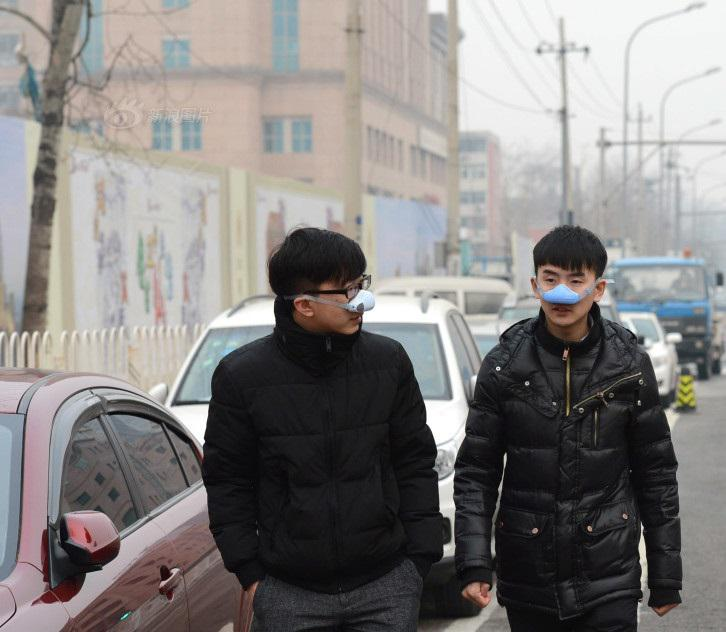WRONG: (306, 267, 377, 335), (538, 266, 596, 324)
